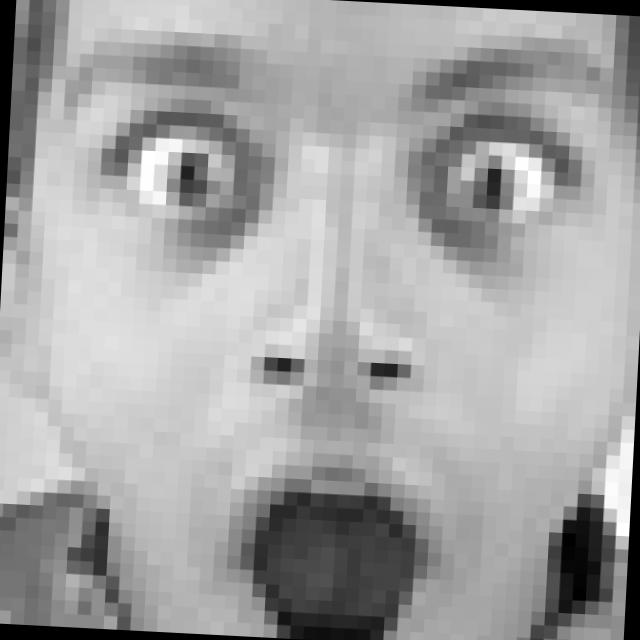surprise: (36, 23, 618, 640)
